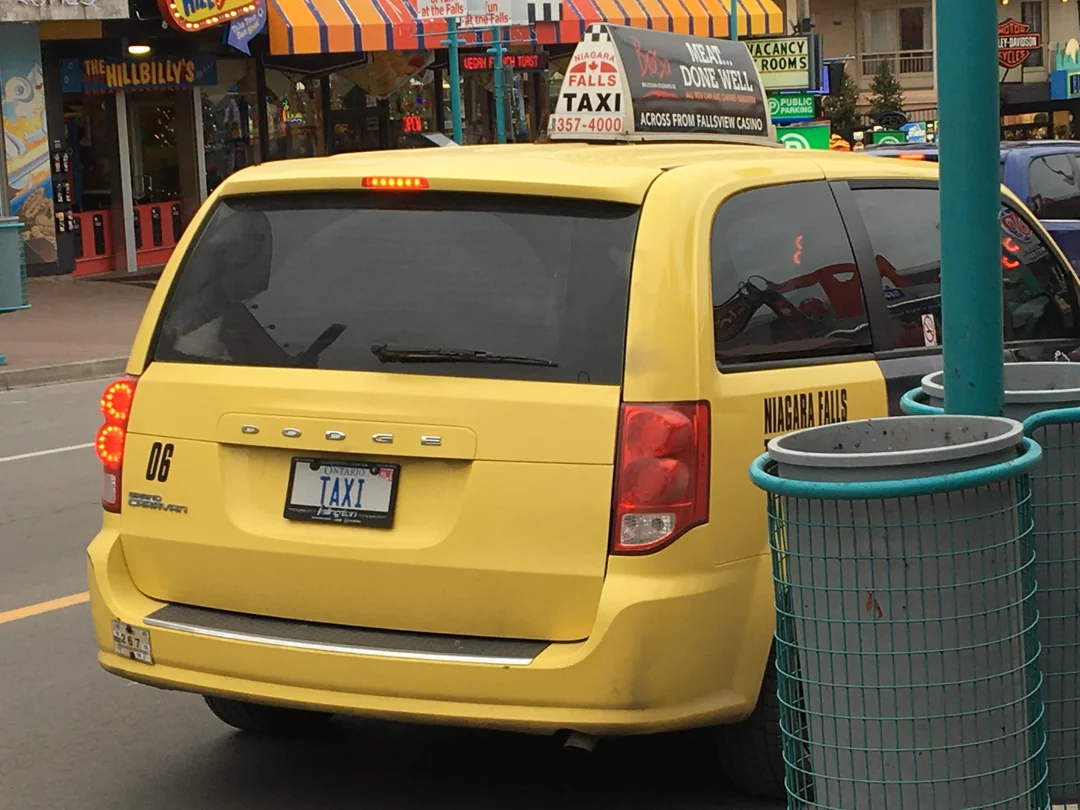licence: (281, 446, 409, 534)
